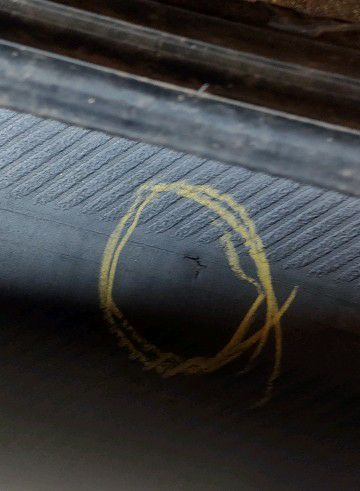CBU: (180, 252, 208, 278)
